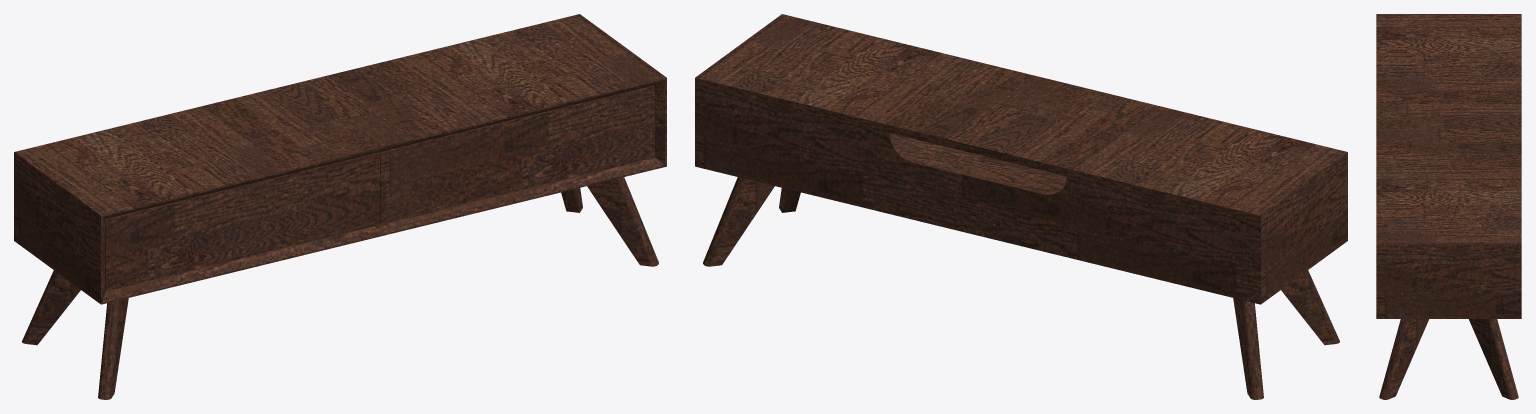
Rendered from 2020 Jan Andrew retro TV UNIT.obj.
3 views of the same model, side by side, from view 1: azimuth 30°, elevation 25°; view 2: azimuth 150°, elevation 25°; view 3: azimuth 270°, elevation 25° (orthographic). The views are drawn at different scales.
Parts seen in each view (by area): view 1: Solid1; view 2: Solid1; view 3: Solid1.
Boxes of the visible parts, bbox=[...] form: Solid1: bbox=[14, 14, 666, 399]; Solid1: bbox=[695, 14, 1347, 399]; Solid1: bbox=[1376, 14, 1521, 399].
Size of the model in its own units: 1500 by 475 by 400.
Materials: 2 (2 with a texture image).
